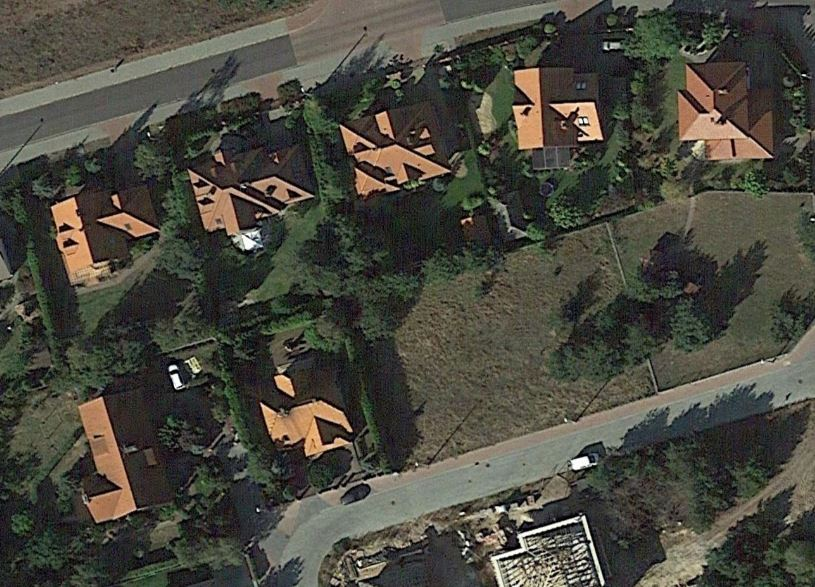family house: (182, 127, 321, 259), (41, 165, 169, 298), (71, 383, 175, 532), (249, 341, 366, 462), (332, 93, 452, 209), (669, 48, 781, 164), (507, 62, 612, 175)
